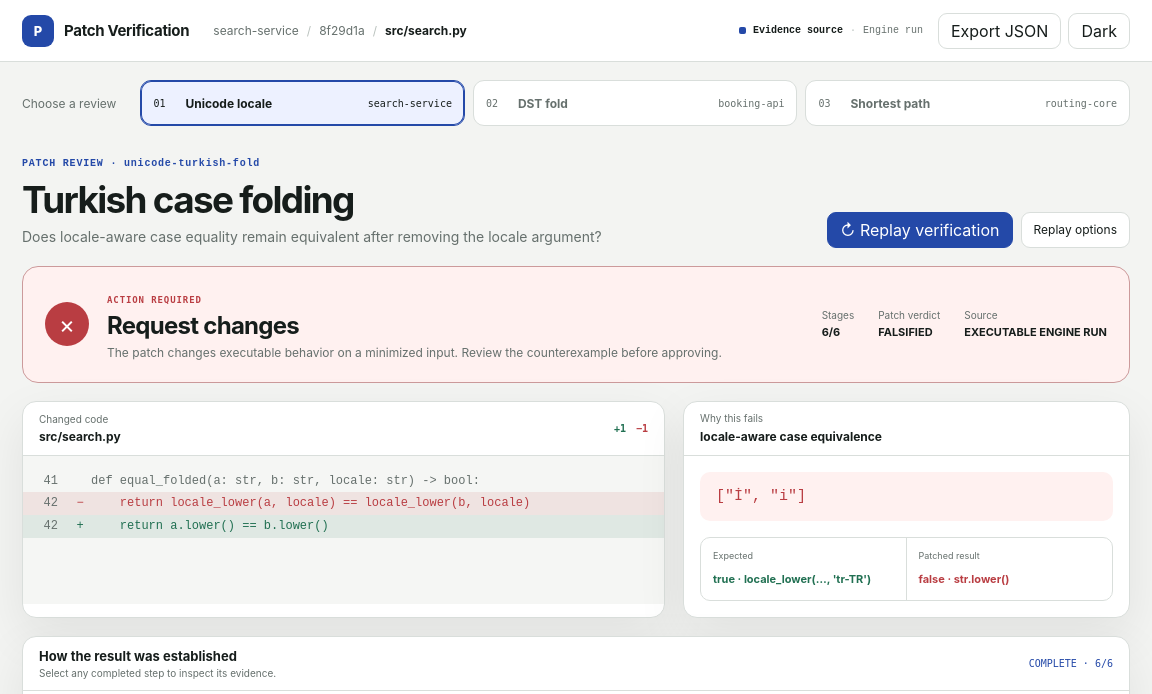
Patch Verification forensic workbench › persists the complete theme and exposes the trace drawer state
Click the button with aria-label "Switch to dark theme" at point(1099, 30), box 1068,12 -> 1130,48
(page scrolled)
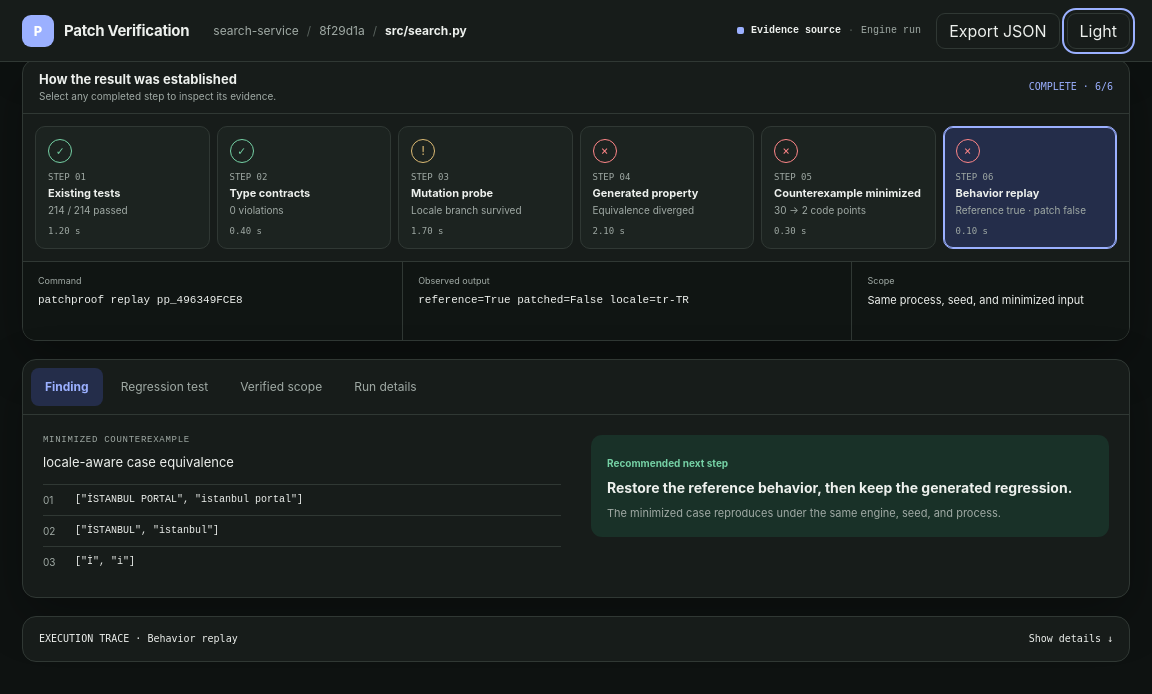
Click the button "EXECUTION TRACE · Behavior replay Show details ↓" at point(93, 639), box 23,617 -> 1129,661
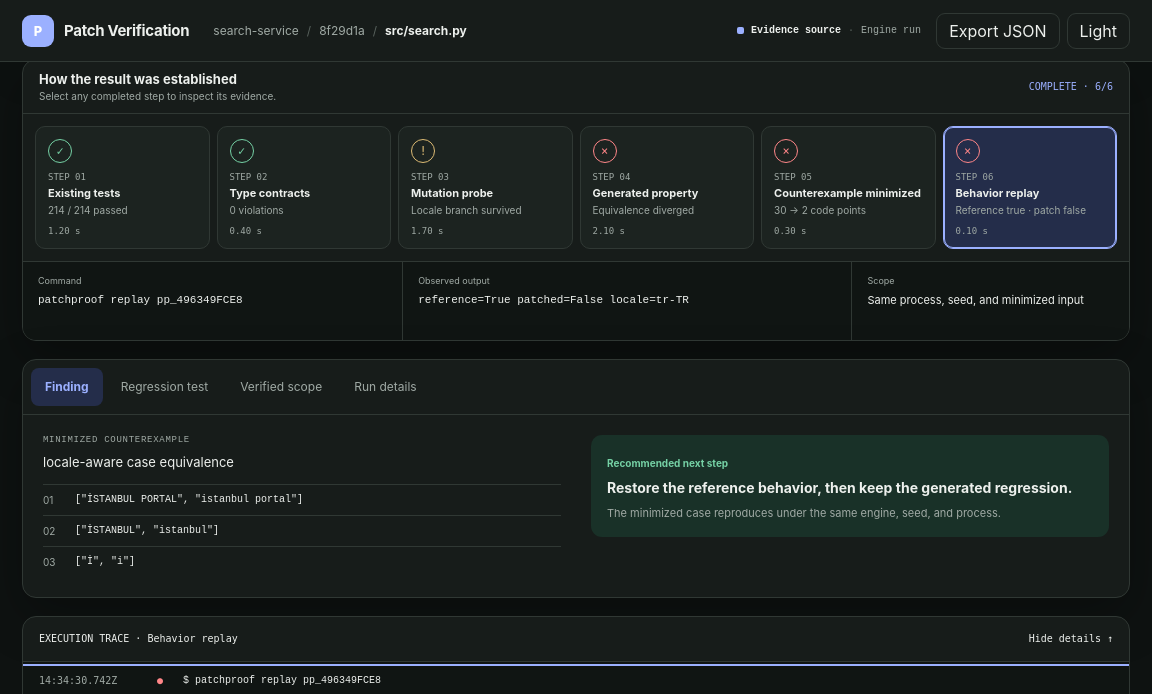
Result: the button "EXECUTION TRACE · Behavior replay Hide details ↑" is expanded at 23,617 -> 1129,661
